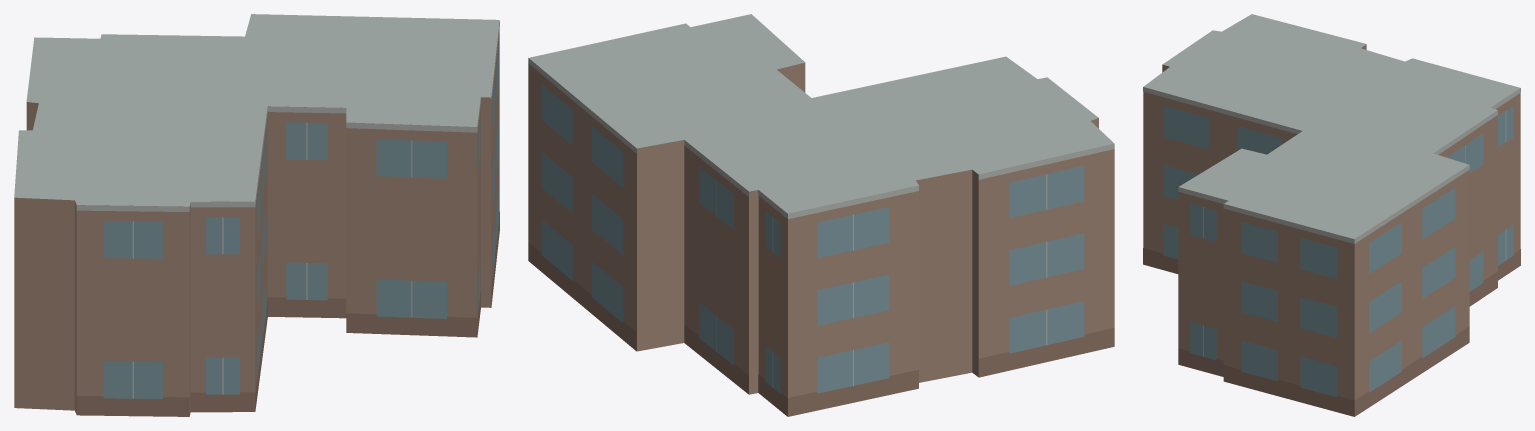
The model's file is survey-upis-32575409.glb.
3 renders of one model, left to right at view 1: azimuth 30°, elevation 25°; view 2: azimuth 150°, elevation 25°; view 3: azimuth 270°, elevation 25°, orthographic. The views are drawn at different scales.
Visible parts, largest first — view 1: survey-upis-32575409.tmp; view 2: survey-upis-32575409.tmp; view 3: survey-upis-32575409.tmp.
Part boxes in pixels (box(x1,y1,x2,y2)): survey-upis-32575409.tmp: box(14, 14, 499, 416); survey-upis-32575409.tmp: box(528, 14, 1114, 416); survey-upis-32575409.tmp: box(1143, 14, 1520, 416).
Bounding box in the file's own units: 24.88 × 9.15 × 17.63.
